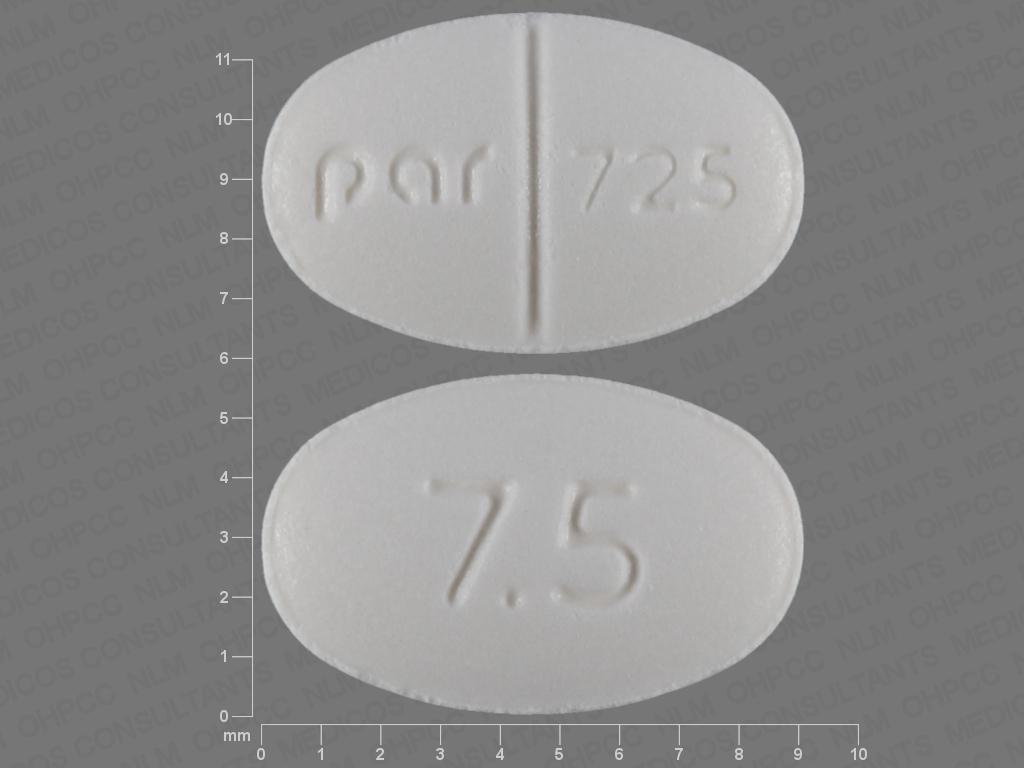Pill: (254, 0, 814, 361), (256, 367, 810, 720)
